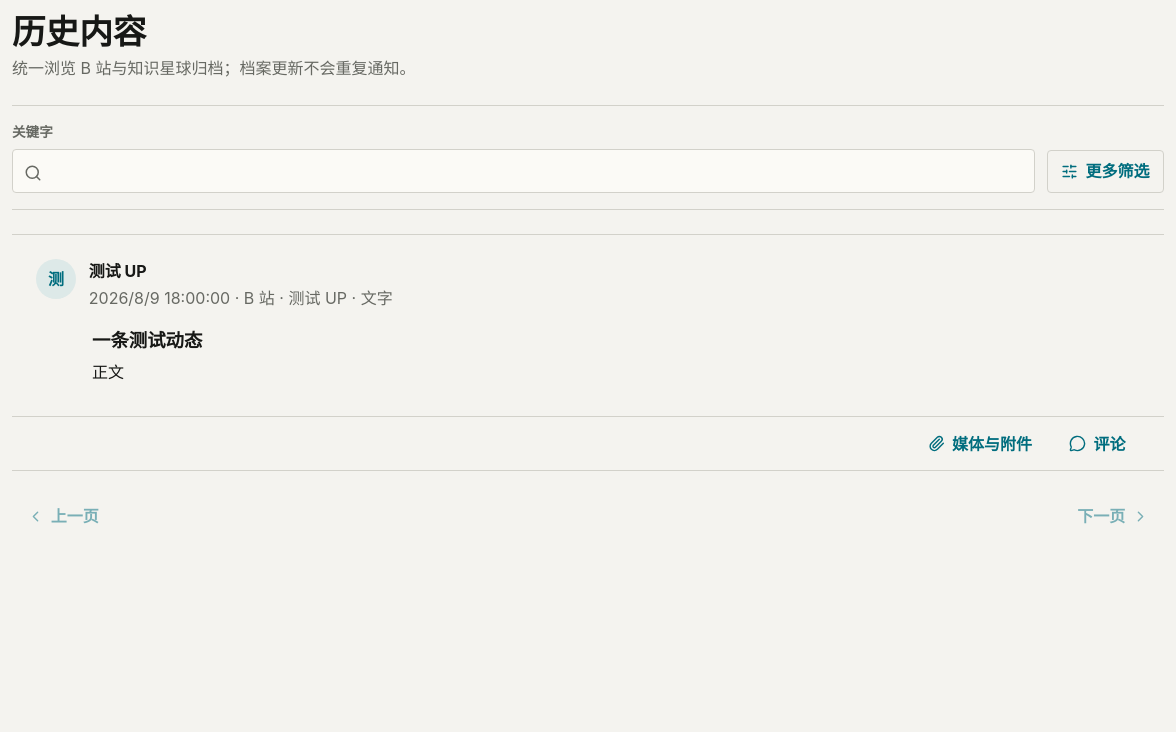
Test case: resource pages › expands a nested cross-platform comment tree on the feed card
Click the button with aria-label "查看评论：一条测试动态": (1097, 444) x1=1055 y1=422 x2=1140 y2=465
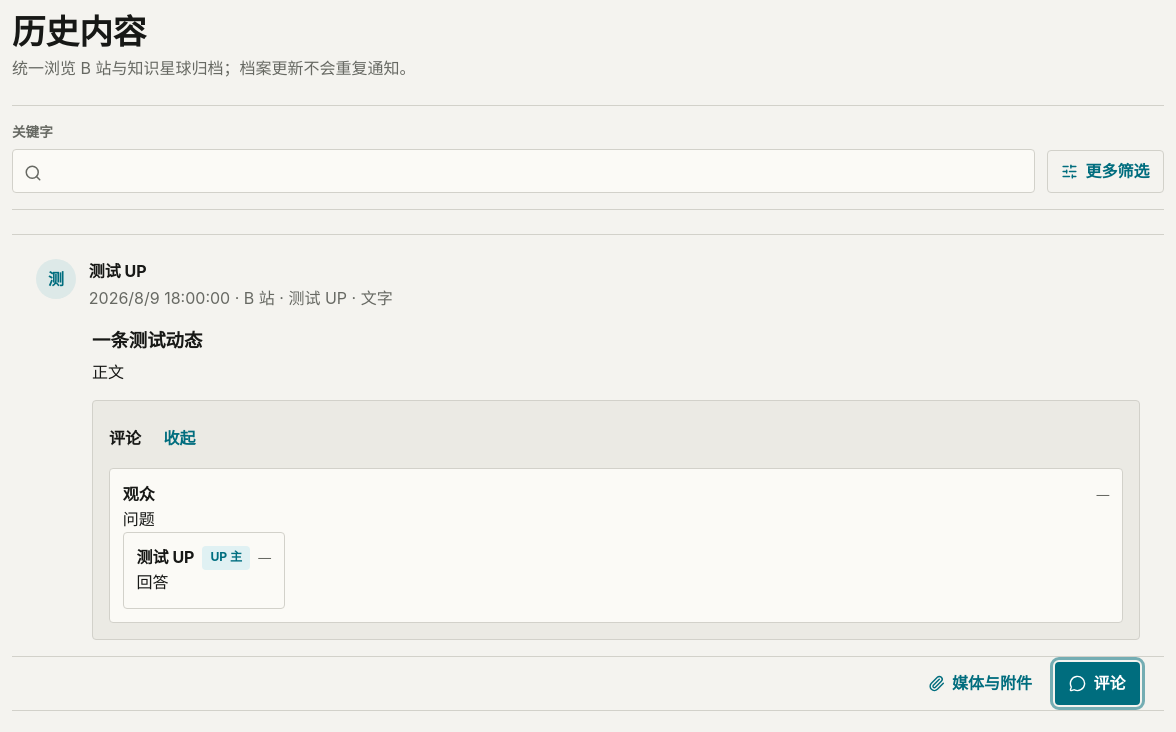
Check: the text "问题" is shown, box x1=123 y1=509 x2=155 y2=529
Check: the text "回答" is shown, box x1=137 y1=572 x2=169 y2=592
Check: the text "UP 主" is shown, box x1=202 y1=546 x2=250 y2=570
Click the button "收起": (180, 439) x1=149 y1=417 x2=210 y2=460
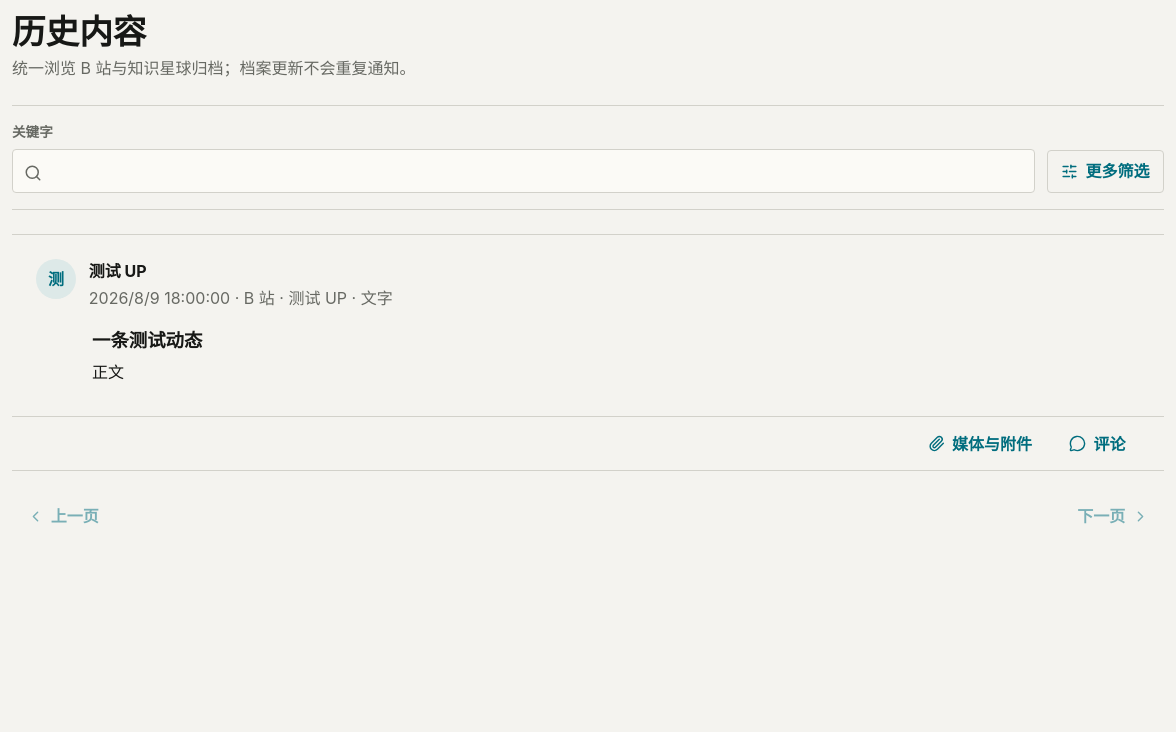
Check: the text "问题" is gone
